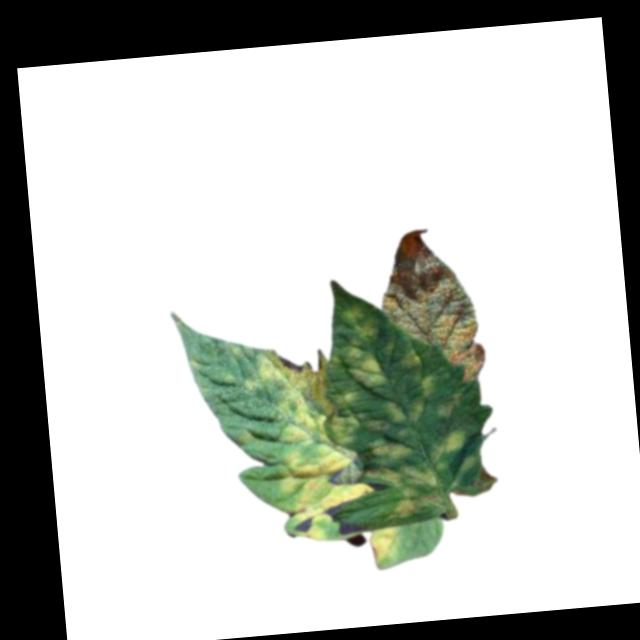Leaf_Mold: (310, 274, 500, 531), (240, 341, 377, 546), (374, 224, 487, 385), (369, 523, 398, 563)
